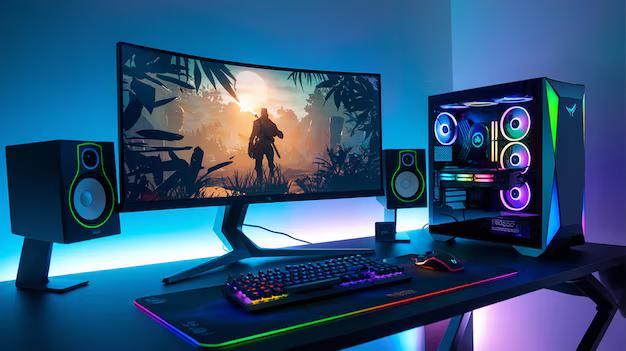keyboard: (210, 244, 412, 308)
monitor: (110, 36, 386, 208)
mouse: (399, 243, 476, 287)
pc: (421, 79, 595, 260)
